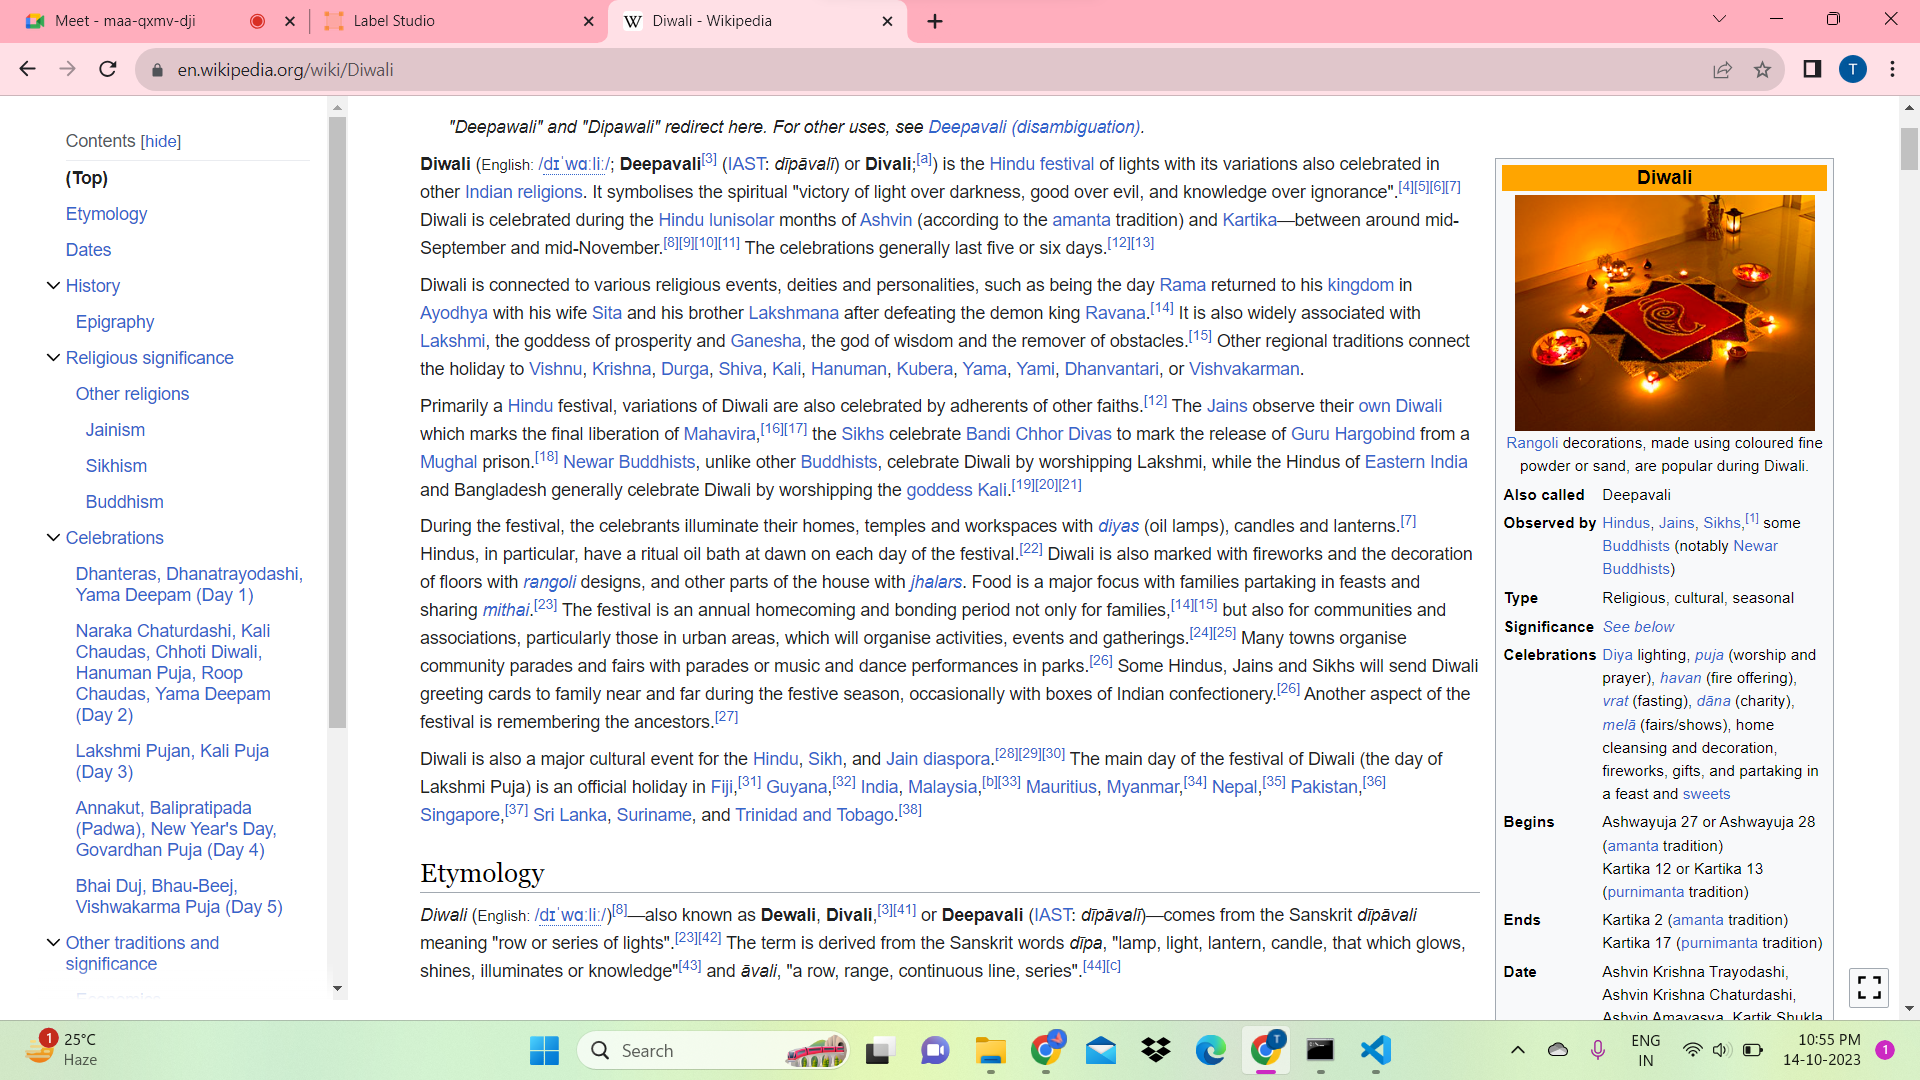Image: (1503, 186, 1828, 435)
Paragraph: (407, 265, 1480, 505), (401, 505, 1482, 736), (1486, 471, 1836, 1017), (401, 138, 1465, 261), (411, 737, 1456, 841), (394, 898, 1478, 997), (62, 550, 319, 787), (58, 791, 309, 922), (440, 108, 1147, 145), (65, 335, 241, 417), (84, 425, 187, 520), (44, 923, 228, 973), (406, 855, 566, 891), (45, 128, 211, 157), (51, 518, 170, 549), (61, 204, 175, 235), (37, 269, 136, 298), (74, 313, 170, 336), (50, 237, 129, 265), (58, 162, 123, 194)
